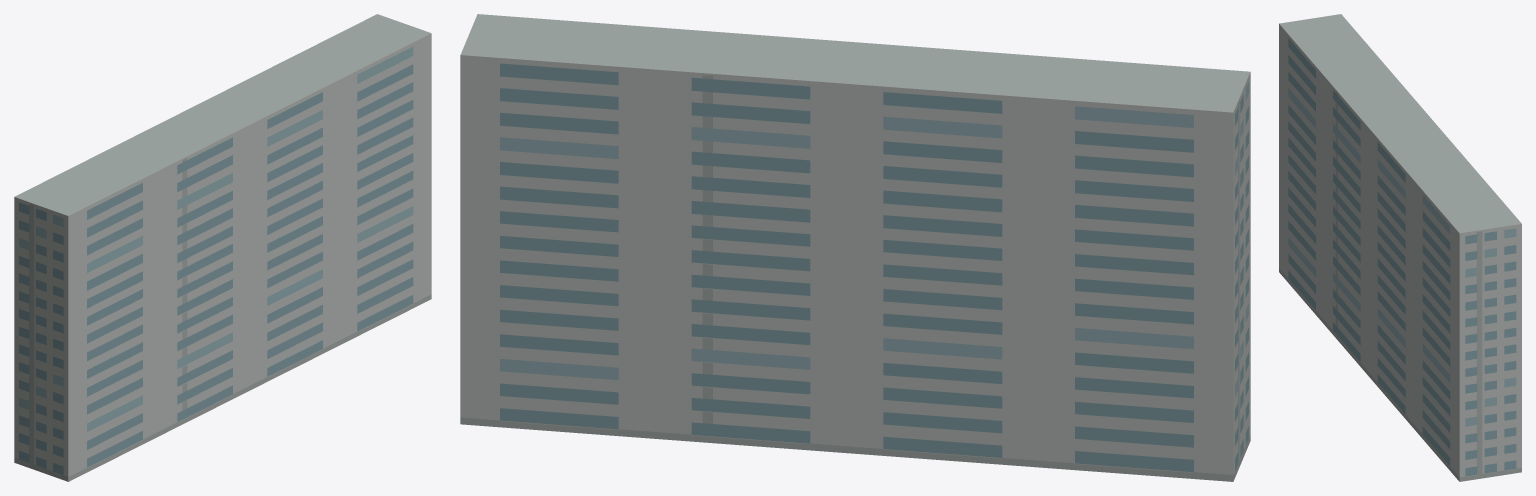
The model's file is residential-2595f9eb-b8c9-4b25-b6d8-43598a83b156.glb.
3 renders of one model, left to right at view 1: azimuth 30°, elevation 25°; view 2: azimuth 150°, elevation 25°; view 3: azimuth 270°, elevation 25°, orthographic. The views are drawn at different scales.
Parts seen in each view (by area): view 1: residential-2595f9eb-b8c9-4b25-b6d8-43598a83b156.tmp; view 2: residential-2595f9eb-b8c9-4b25-b6d8-43598a83b156.tmp; view 3: residential-2595f9eb-b8c9-4b25-b6d8-43598a83b156.tmp.
Part boxes in pixels (left/top/right/bottom): residential-2595f9eb-b8c9-4b25-b6d8-43598a83b156.tmp: left=14, top=14, right=431, bottom=481; residential-2595f9eb-b8c9-4b25-b6d8-43598a83b156.tmp: left=460, top=14, right=1250, bottom=481; residential-2595f9eb-b8c9-4b25-b6d8-43598a83b156.tmp: left=1279, top=14, right=1521, bottom=481.
Size of the model in its own units: 86.6 by 45.75 by 40.53.
